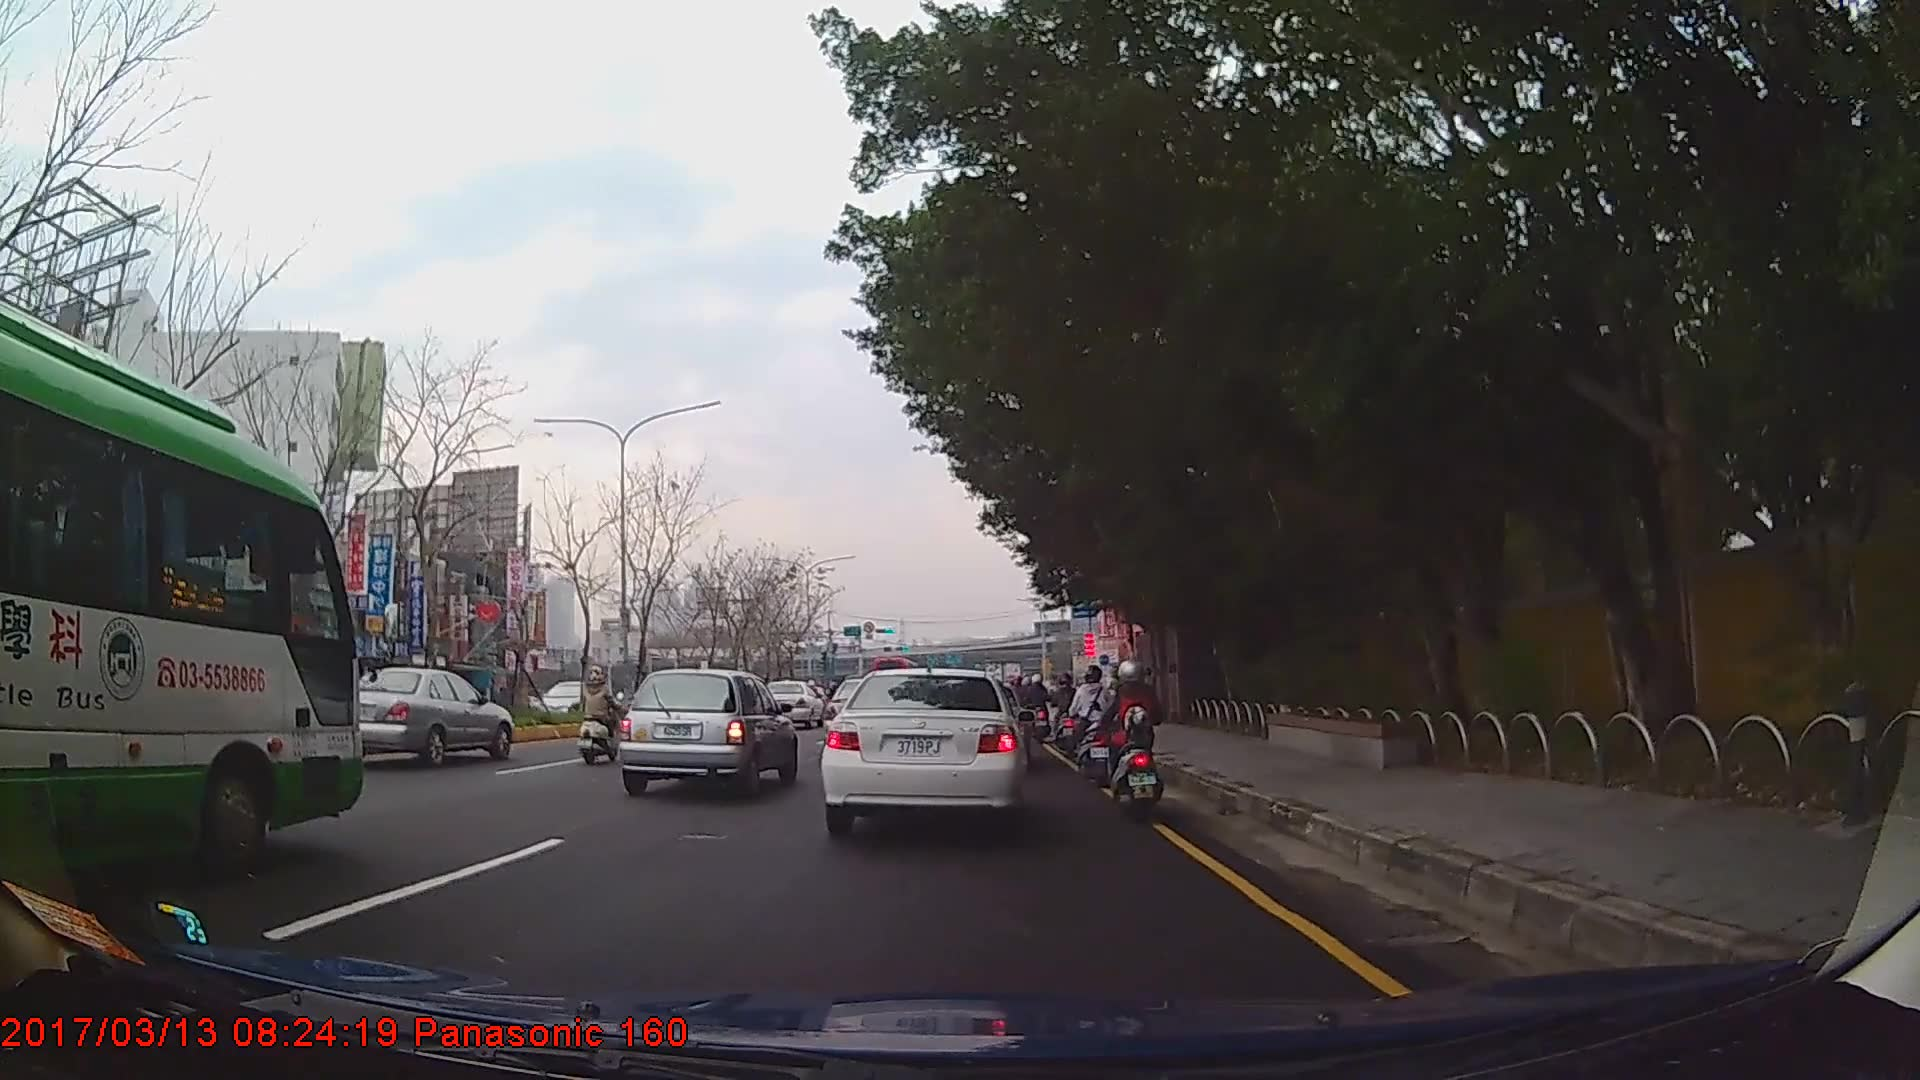rider: (1104, 661, 1164, 820), (1068, 669, 1114, 781), (585, 671, 625, 770), (1052, 676, 1079, 745)
vehicle: (0, 297, 360, 887), (819, 670, 1027, 844), (618, 669, 795, 798), (341, 668, 512, 767), (539, 680, 612, 728), (764, 678, 820, 725)
